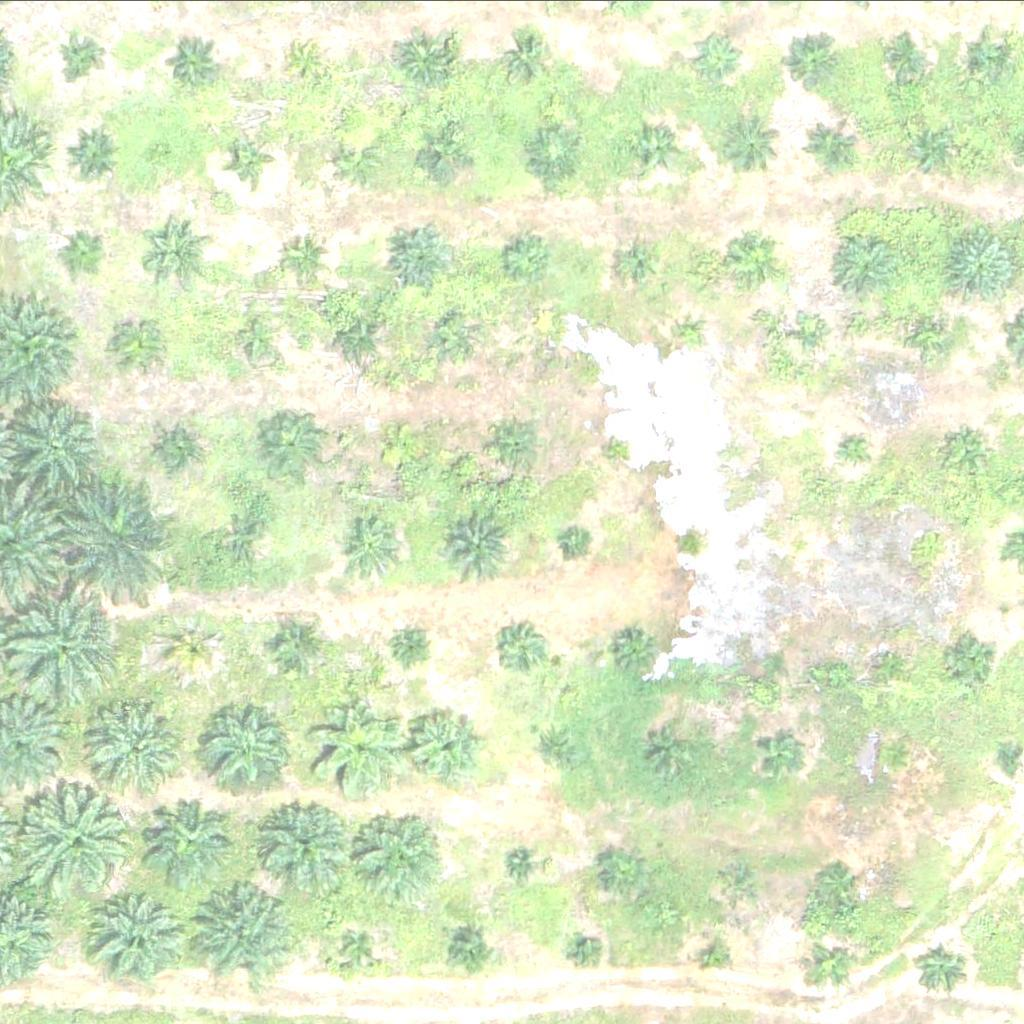Kelapa_Sawit: (54, 473, 180, 598), (20, 780, 145, 905), (12, 585, 125, 698), (93, 887, 194, 987), (303, 697, 404, 797), (195, 879, 296, 979), (97, 696, 186, 784), (404, 702, 492, 790), (15, 400, 103, 488), (353, 811, 441, 899), (261, 799, 349, 887), (148, 792, 236, 880), (193, 703, 281, 790), (828, 230, 904, 305), (942, 226, 1018, 301), (440, 509, 516, 584), (721, 108, 784, 171), (154, 223, 217, 286), (108, 317, 171, 380), (390, 221, 453, 284), (225, 306, 288, 369), (790, 29, 853, 92), (263, 414, 326, 476), (342, 514, 405, 576), (394, 27, 457, 89), (212, 510, 275, 572), (813, 853, 864, 903), (943, 633, 994, 683), (529, 127, 580, 177), (411, 129, 462, 179), (333, 309, 384, 359), (276, 233, 327, 283), (427, 308, 478, 358), (154, 429, 205, 479), (373, 420, 424, 470), (500, 232, 551, 282), (500, 34, 551, 84), (690, 30, 741, 80), (632, 122, 683, 172), (807, 940, 858, 990), (271, 619, 321, 669), (69, 129, 119, 179), (734, 233, 784, 283), (167, 35, 217, 85), (331, 136, 381, 186), (64, 228, 114, 278), (494, 414, 544, 464), (879, 32, 929, 82), (963, 30, 1013, 80), (899, 124, 949, 174), (804, 119, 854, 169), (617, 237, 667, 287), (920, 945, 970, 995), (500, 625, 550, 675), (614, 622, 664, 672), (753, 725, 803, 775), (646, 725, 696, 775), (532, 718, 582, 768), (602, 845, 652, 895), (442, 926, 492, 976), (171, 618, 221, 668), (333, 923, 383, 973), (285, 42, 323, 80), (230, 139, 268, 177), (955, 428, 993, 465), (65, 34, 103, 71), (879, 736, 916, 774), (724, 862, 761, 900), (873, 644, 911, 681), (563, 530, 589, 555), (919, 318, 945, 343), (674, 325, 699, 350), (802, 320, 827, 345), (845, 437, 870, 462), (601, 437, 626, 462), (573, 939, 598, 964), (703, 946, 728, 971), (399, 629, 424, 654), (790, 531, 815, 556), (509, 852, 534, 876)
